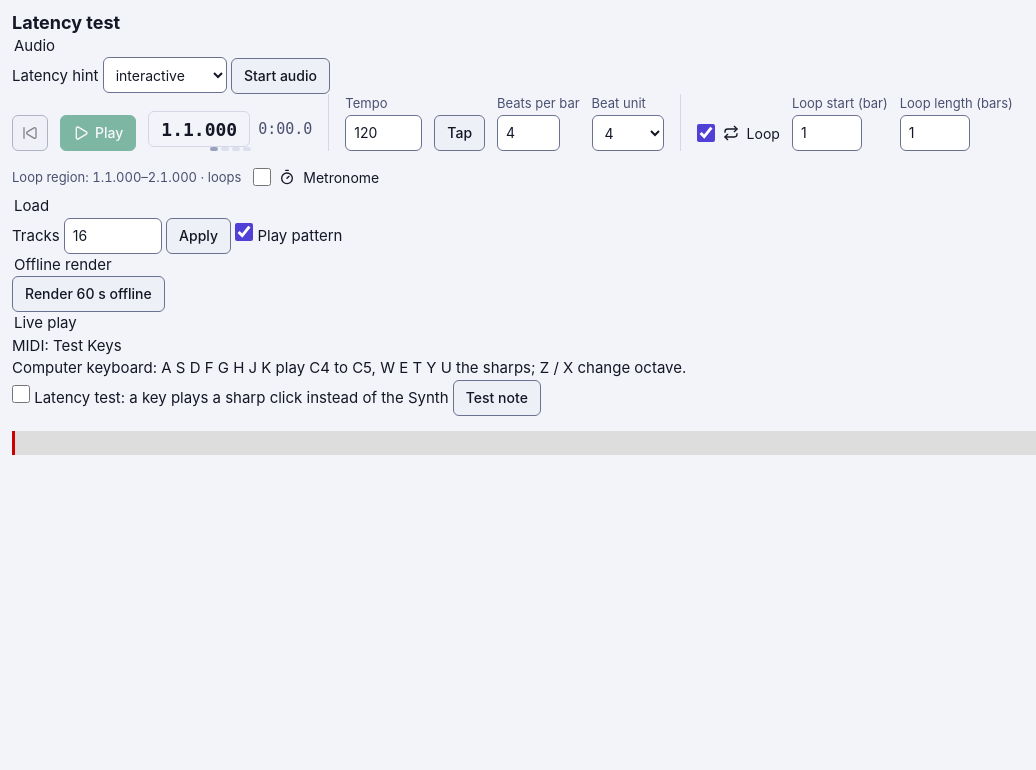
Test: says so when the browser doesn't report underruns
Click the button "Start audio" at point(280, 76), box left=231, top=58, right=330, bottom=94
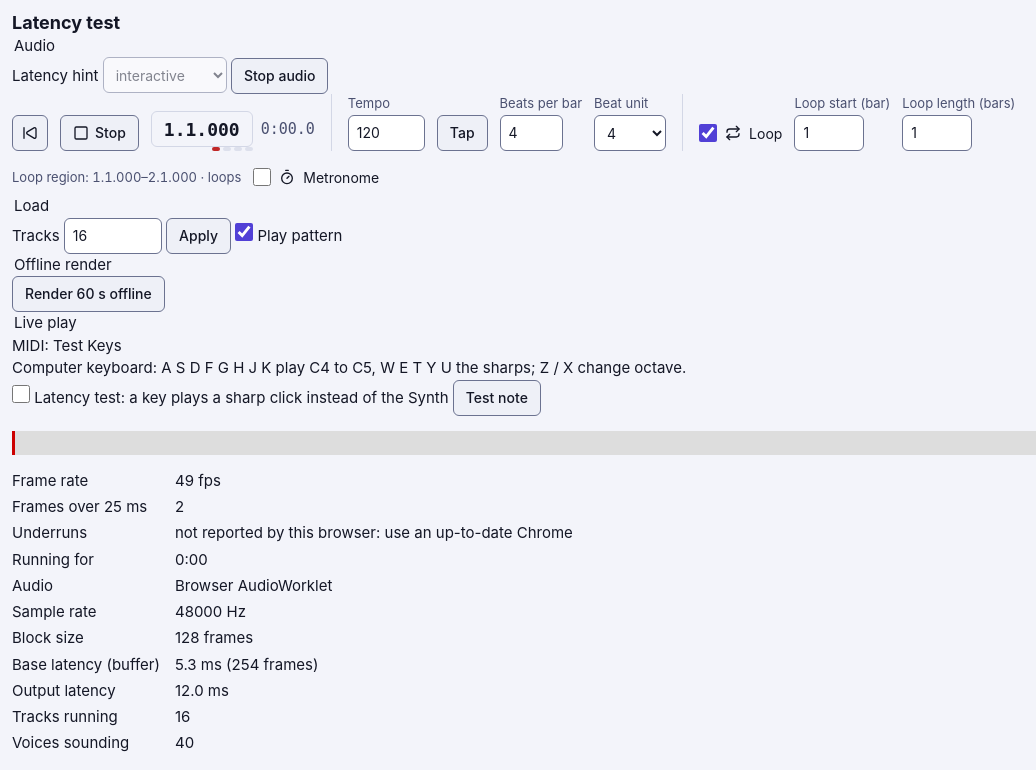
Check: the button "Stop audio" is shown, box left=231, top=58, right=328, bottom=94
Check: the text "not reported by this browser: use an up-to-date Chrome" is shown, box left=175, top=523, right=573, bottom=542
